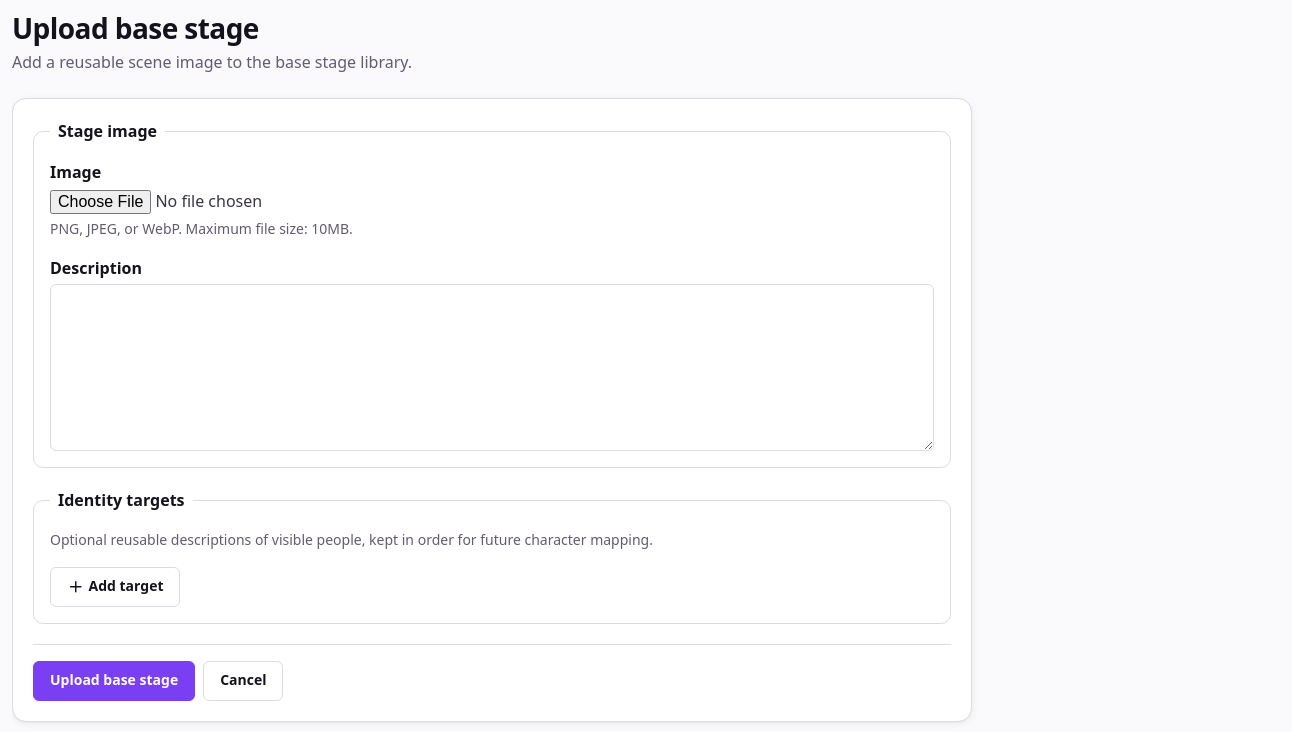
BaseStageUploadPage › adds and removes ordered textual targets
Step 1. Click the button "Add target" → (115, 587), box [50,567,180,607]
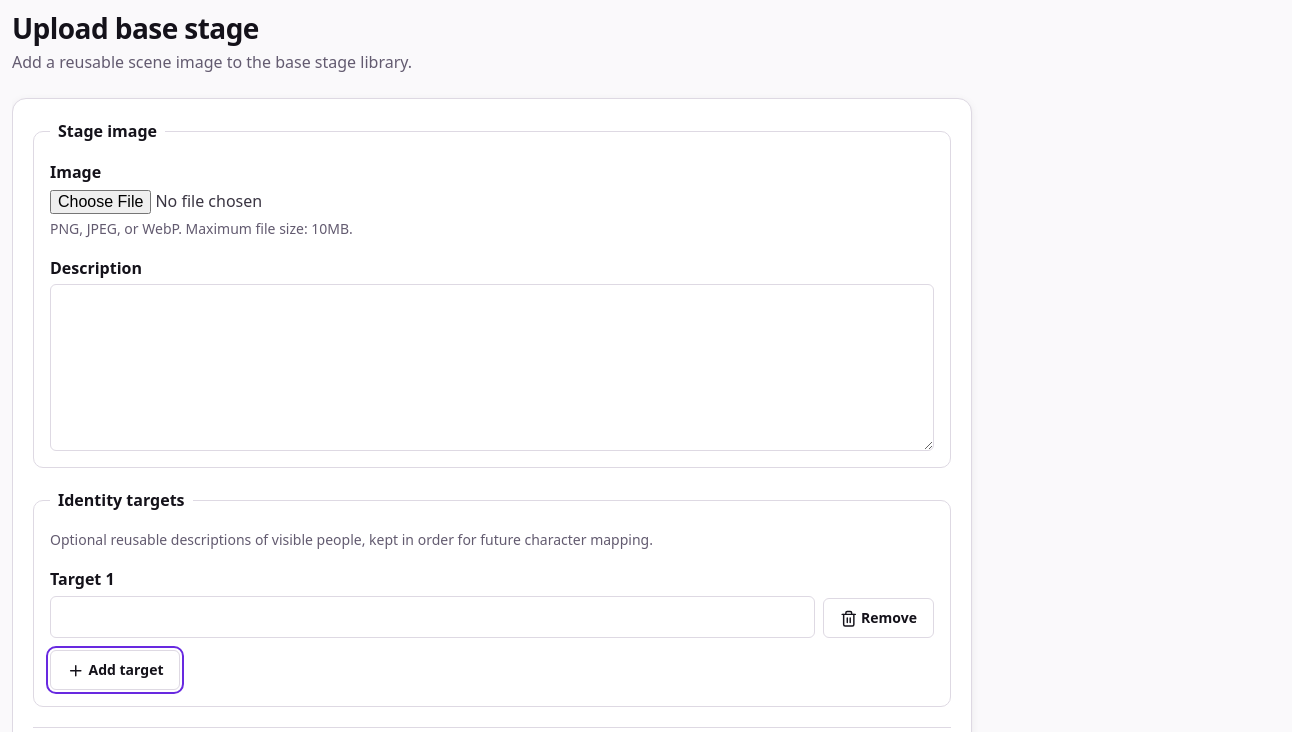
Step 2. Click the button "Add target" → (115, 670), box [50,650,180,690]
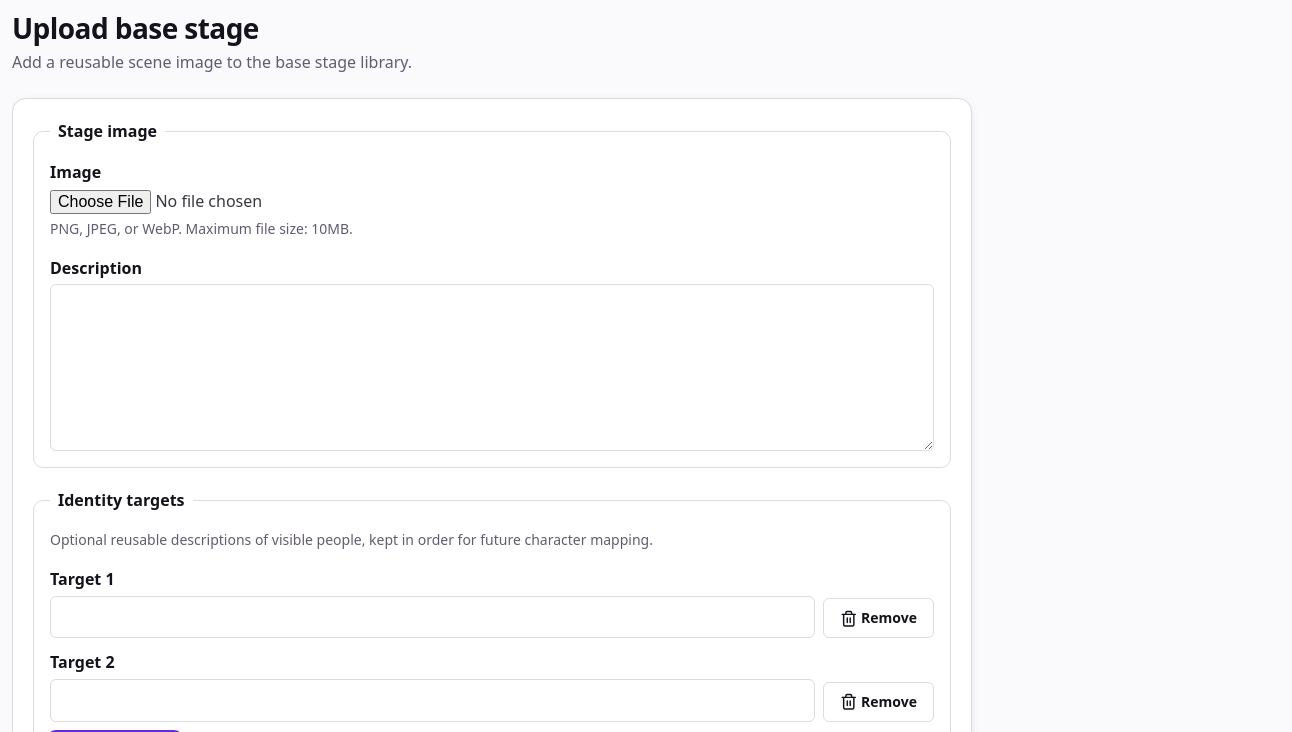
Step 3. Type "woman by the clock" into the field labelled "Target 1" → (432, 617), box [50,596,815,638]
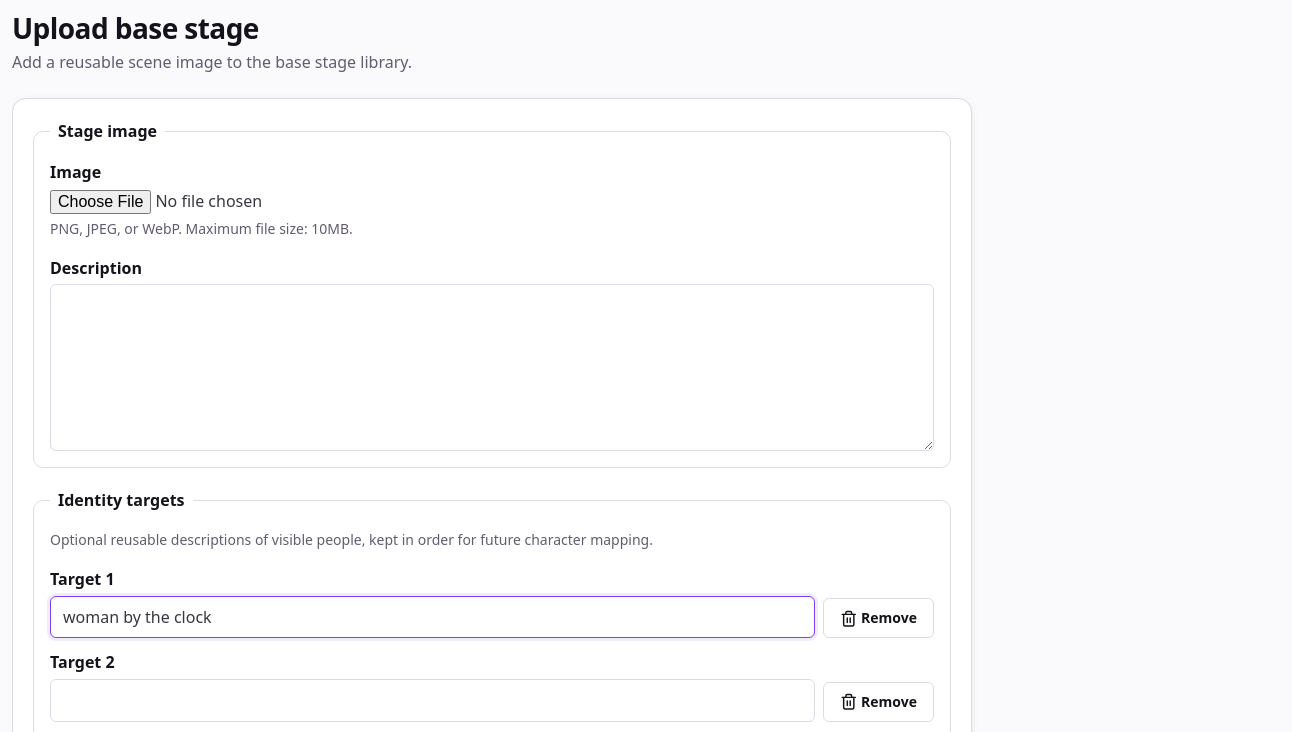
Step 4. Type "porter" into the field labelled "Target 2" → (432, 700), box [50,679,815,722]
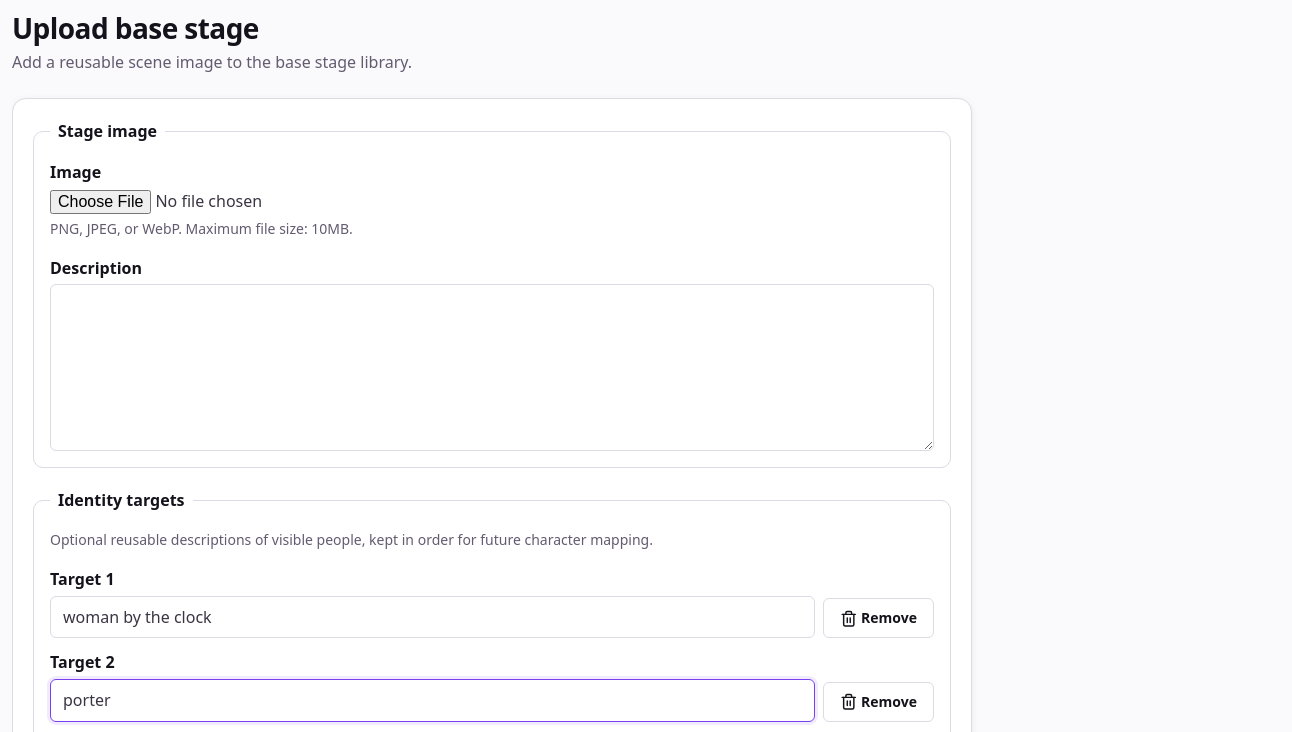
Step 5. Click the button with aria-label "Remove target 1" → (878, 618), box [823,598,934,638]
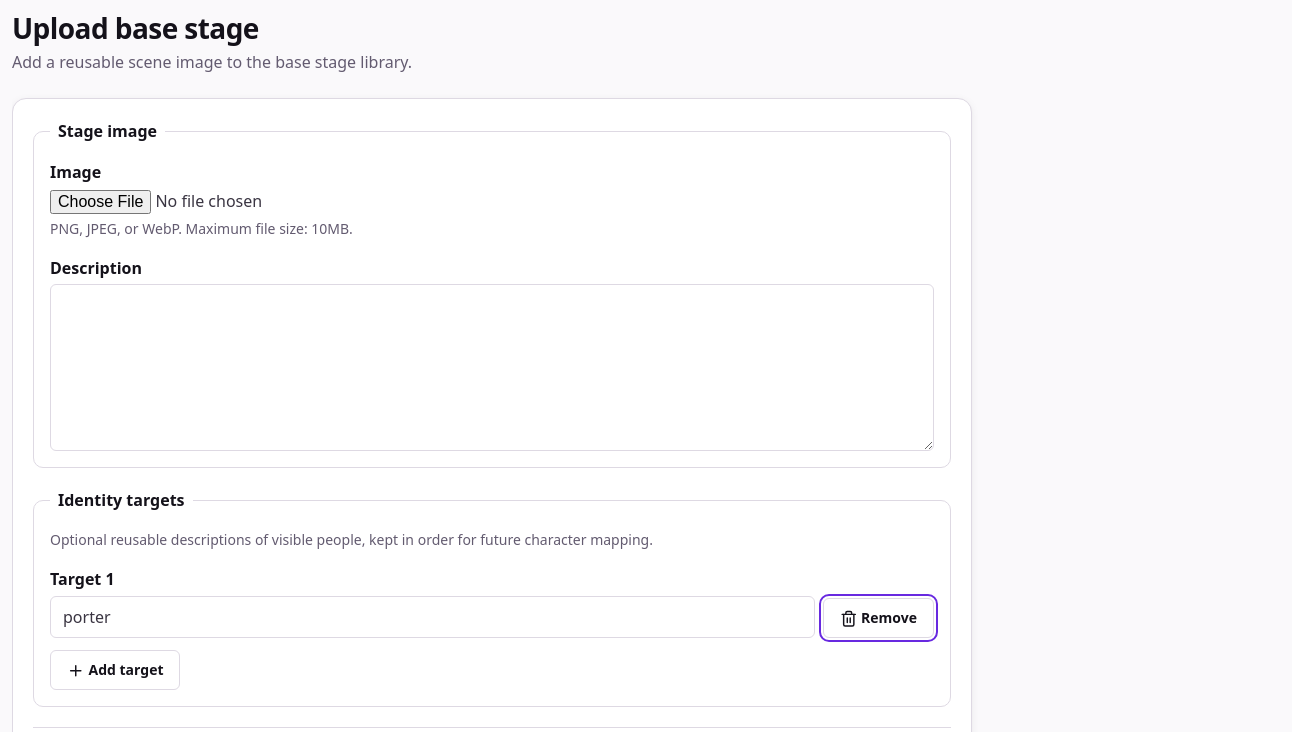
expect the field labelled "Target 1" holds "porter": met, box [50,596,815,638]
expect the label labelled "Target 2" is gone: met
